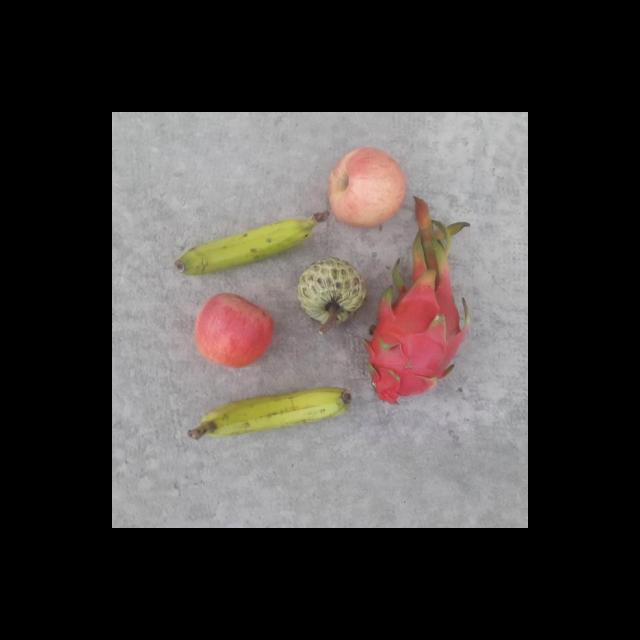Sakya fruit: (296, 252, 368, 326)
apple: (326, 144, 409, 228), (194, 290, 275, 368)
banana: (176, 204, 328, 274), (185, 382, 354, 441)
pitaya: (368, 252, 476, 402)
